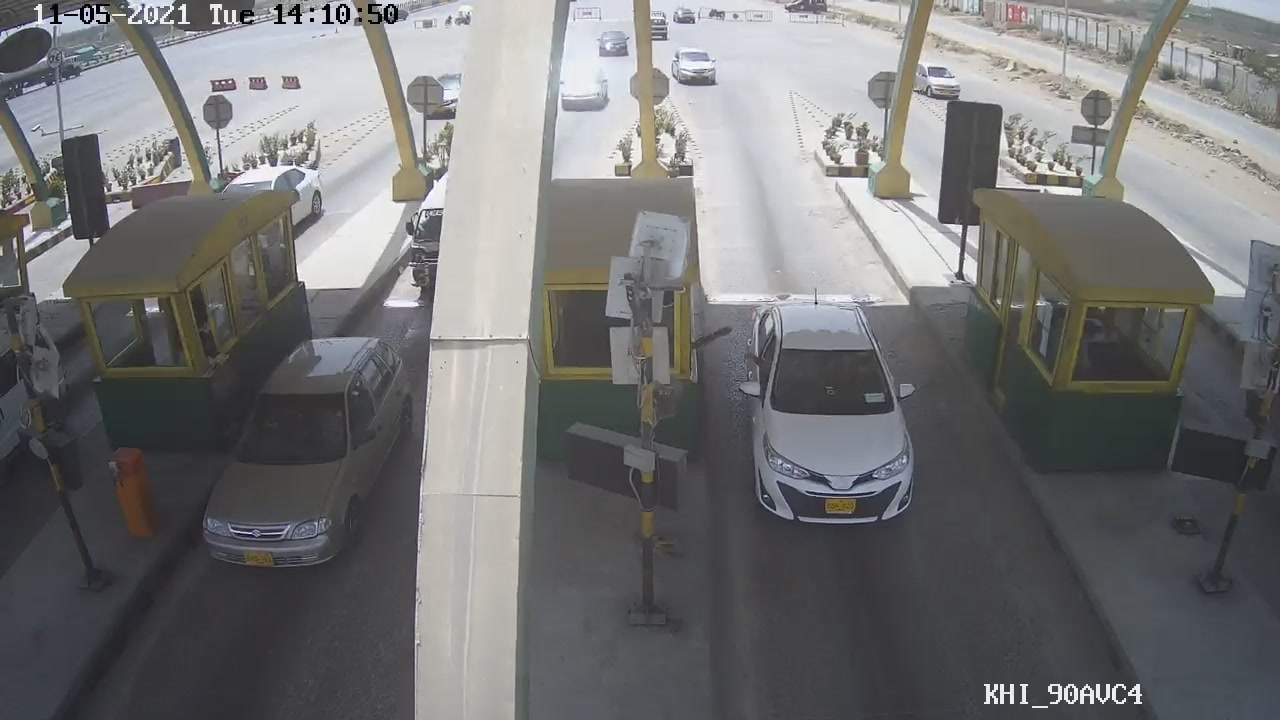F1: (726, 286, 926, 530)
